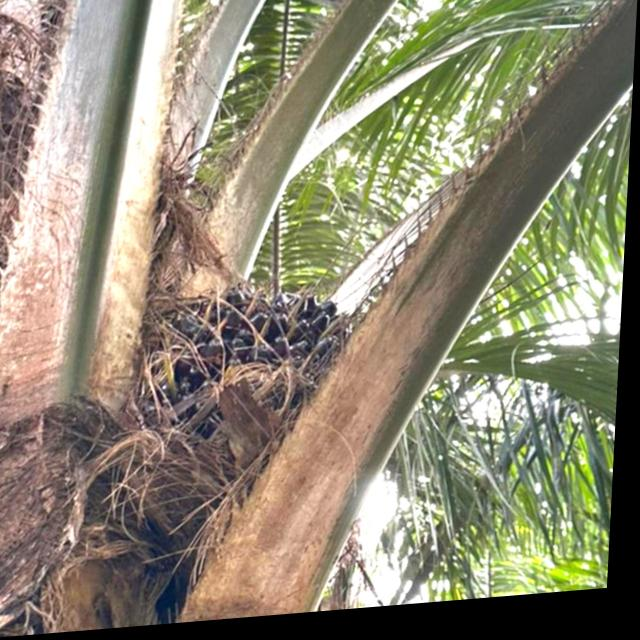almost: (155, 279, 364, 451)
